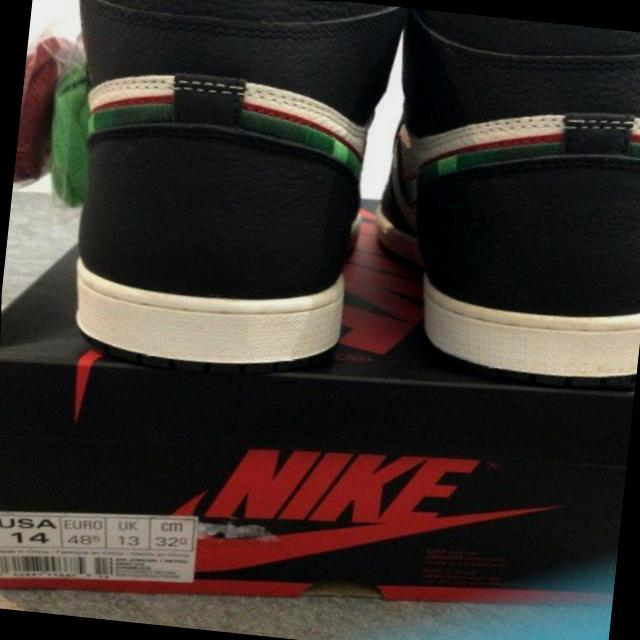nike_original_jordan: (39, 0, 390, 402), (352, 6, 640, 402)
